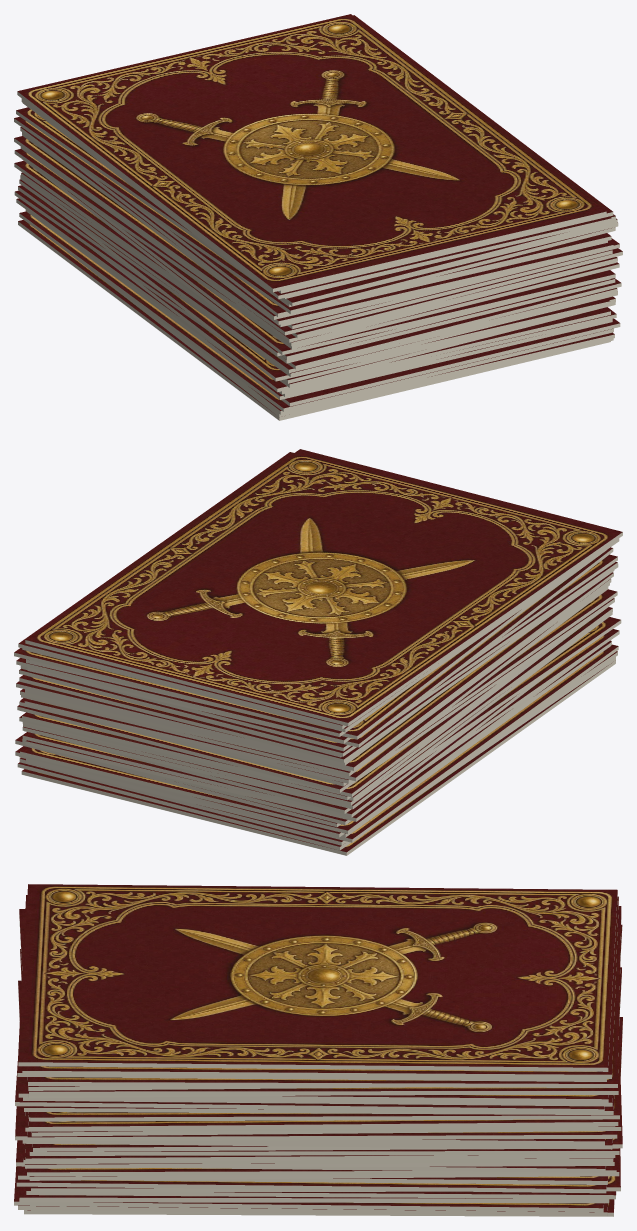
Rendered from card-deck.glb.
3 renders of one model, top to bottom at view 1: azimuth 30°, elevation 25°; view 2: azimuth 150°, elevation 25°; view 3: azimuth 270°, elevation 25°, orthographic. The views are drawn at different scales.
Visible parts, largest first — view 1: deck; view 2: deck; view 3: deck.
Boxes of the visible parts, x1,y1,x2,y2 form: deck: (14,14,622,420); deck: (14,449,622,855); deck: (14,884,622,1216).
Bounding box in the file's own units: 0.9588 × 0.3497 × 1.3.
2 materials, 1 textured.
